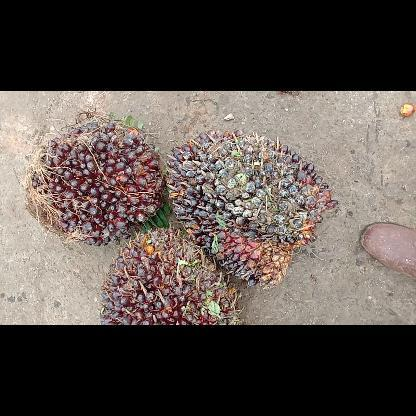Kurang masak: (22, 119, 162, 245), (99, 228, 238, 324)
TBS mentah: (166, 129, 336, 289)
